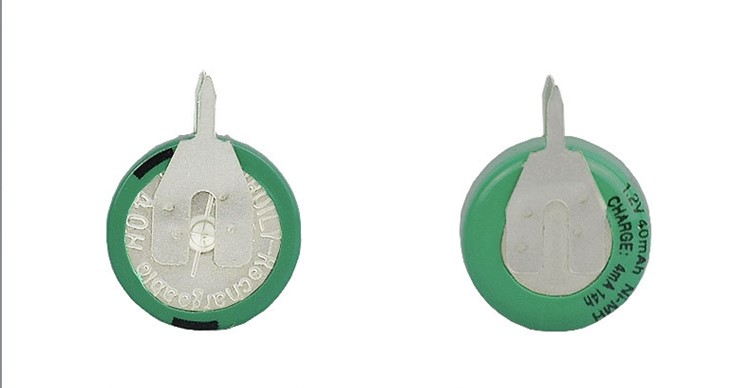Battery: (99, 66, 307, 336), (454, 70, 655, 335)
